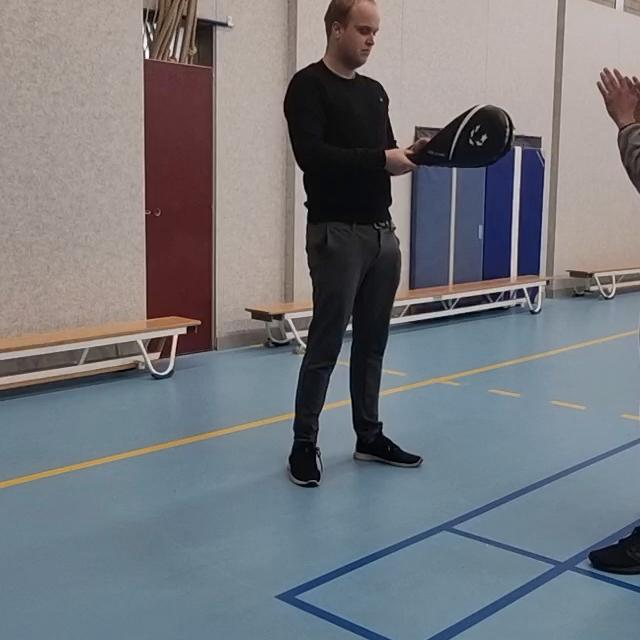paddle: (403, 102, 521, 170)
